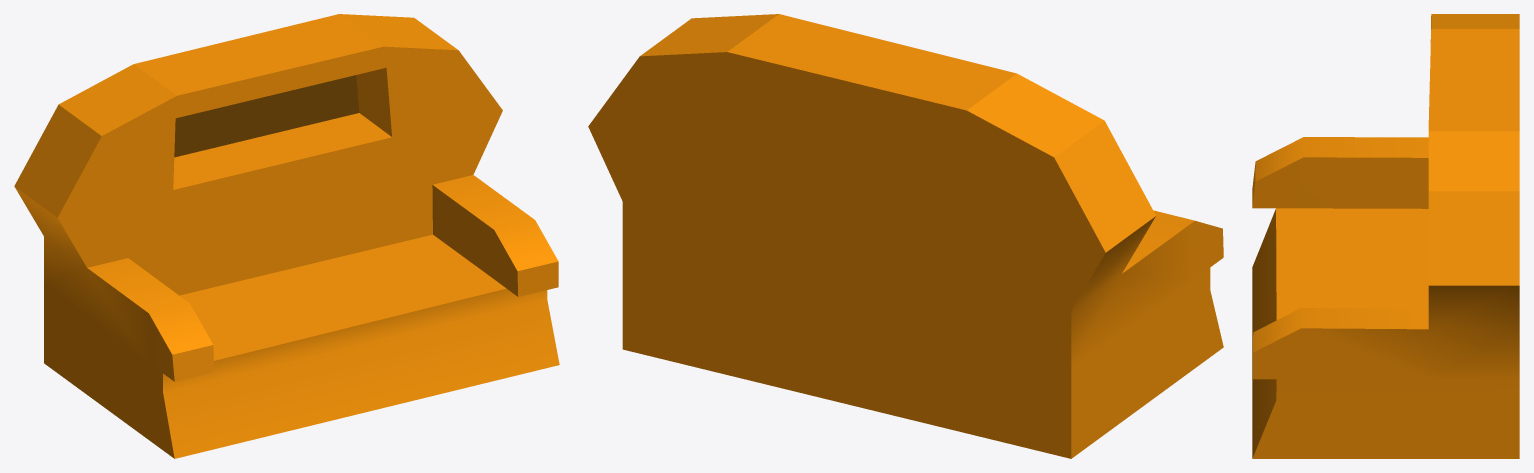
Rendered from sofa.fbx.
3 views of the same model, side by side, from view 1: azimuth 30°, elevation 25°; view 2: azimuth 150°, elevation 25°; view 3: azimuth 270°, elevation 25° (orthographic). The views are drawn at different scales.
Visible parts, largest first — view 1: pCube1; view 2: pCube1; view 3: pCube1.
Part boxes in pixels (<box>): pCube1: <box>14,14,559,458</box>; pCube1: <box>588,14,1223,458</box>; pCube1: <box>1252,14,1519,458</box>.
Bounding box in the file's own units: 5.43 × 3.24 × 2.77.
